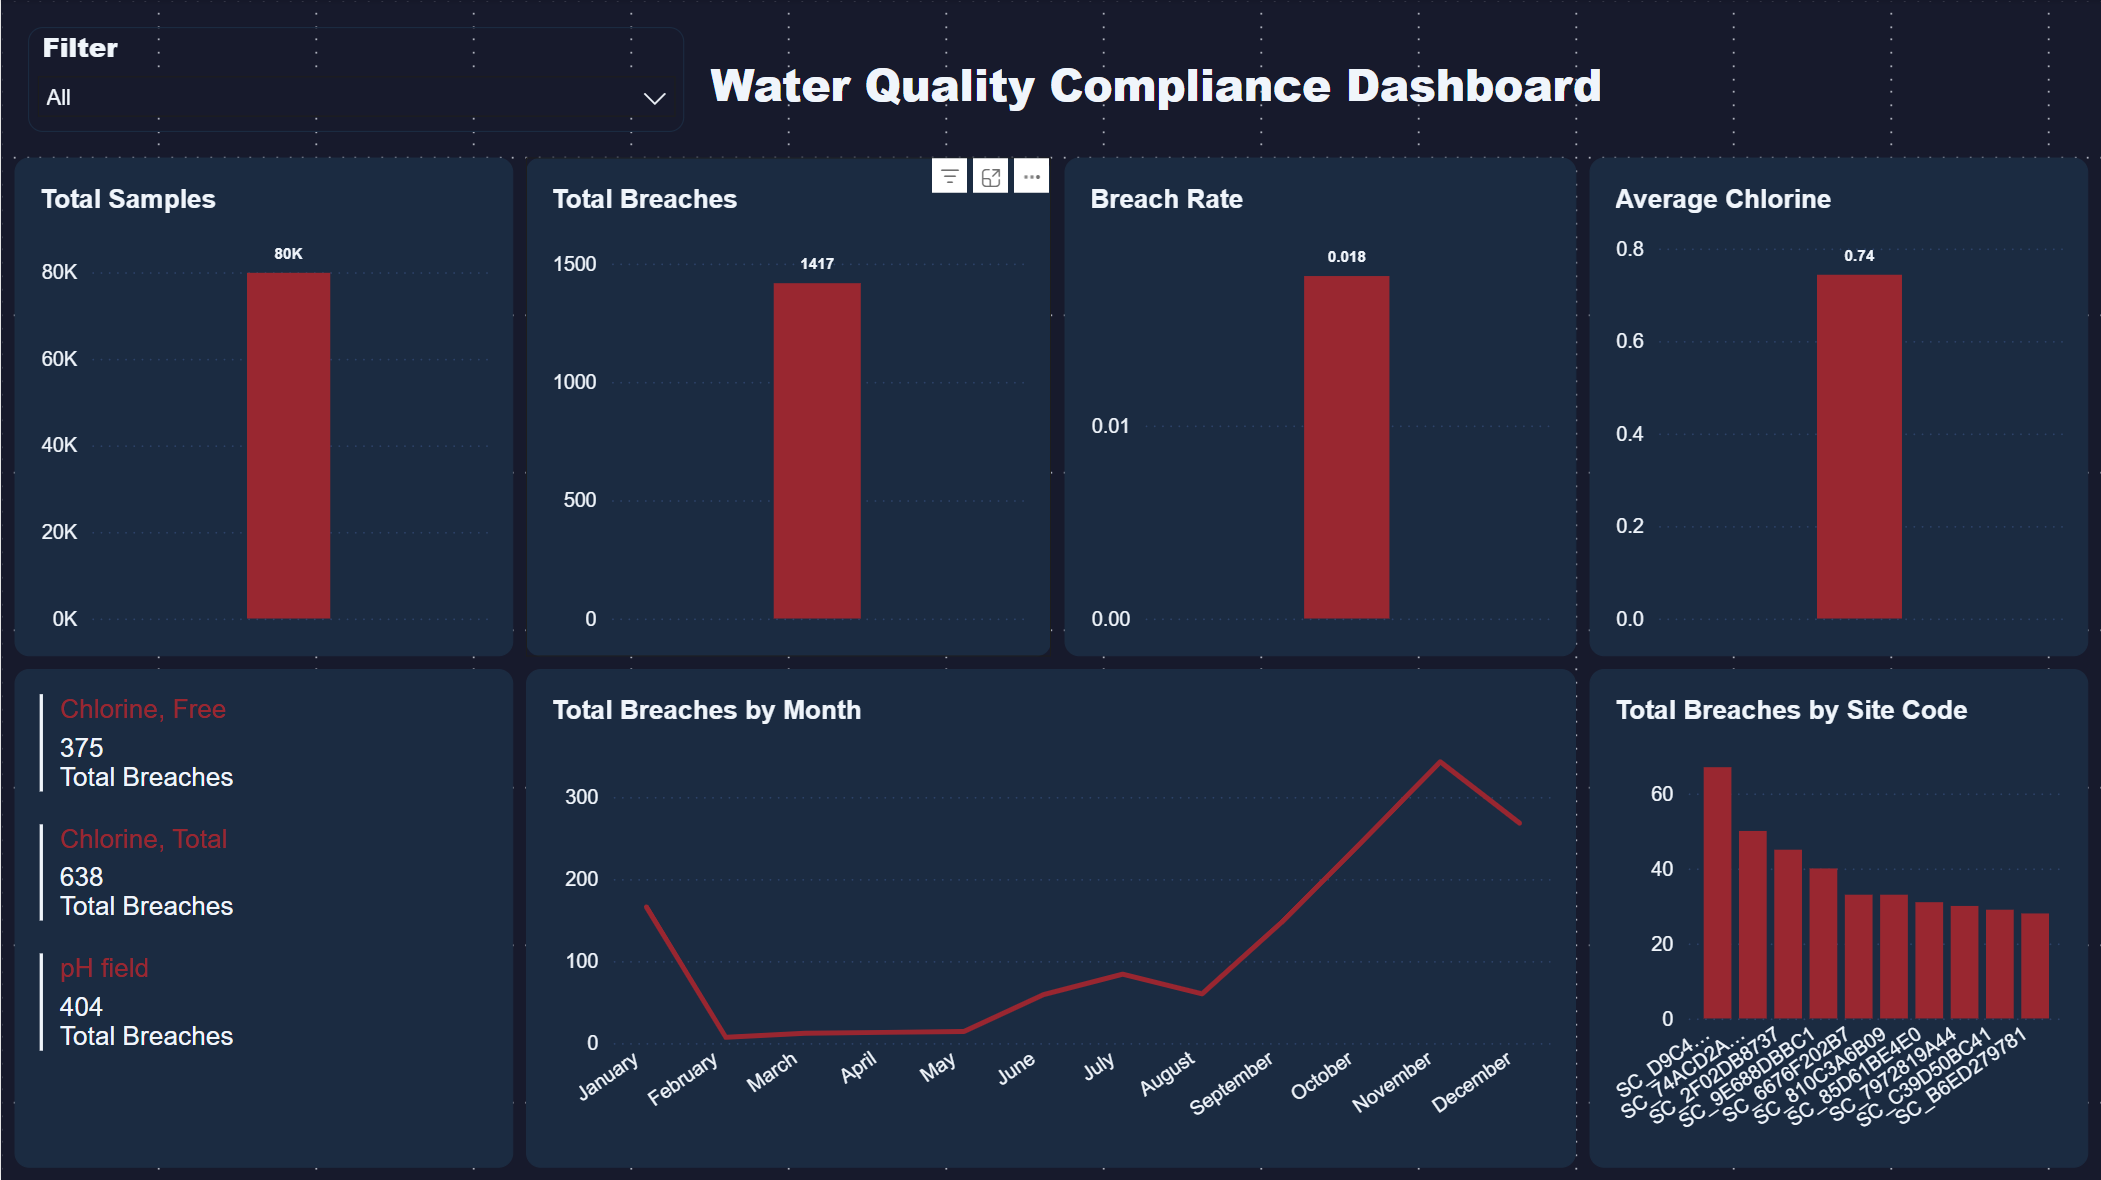

This screenshot's page, from the dashboard's own definition file:
{"tool":"powerbi","page":{"name":"Page 1","canvas":[1280,720],"ordinal":0},"visuals":[{"type":"clusteredColumnChart","fields":{"Y":["WaterQuality.Total Samples"]},"box":[8,96,304,304],"z":0},{"type":"clusteredColumnChart","fields":{"Y":["WaterQuality.Total Breaches"]},"box":[320,96,320,304],"z":1000},{"type":"clusteredColumnChart","fields":{"Y":["WaterQuality.Breach Rate"]},"box":[648,96,312,304],"z":2000},{"type":"multiRowCard","fields":{"Values":["WaterQuality.Parameter","WaterQuality.Total Breaches"]},"box":[8,408,304,304],"z":3000},{"type":"lineChart","fields":{"Category":["WaterQuality.Date.Variation.Date Hierarchy.Month"],"Y":["WaterQuality.Total Breaches"]},"box":[320,408,640,304],"z":4000},{"type":"columnChart","fields":{"Category":["WaterQuality.Site Code"],"Y":["WaterQuality.Total Breaches"]},"box":[968,408,304,304],"z":5000},{"type":"slicer","fields":{"Values":["WaterQuality.Zone","WaterQuality.Parameter","WaterQuality.Site Code"]},"box":[16,16,400,64],"z":6000},{"type":"textbox","box":[432,32,752,48],"z":7000},{"type":"clusteredColumnChart","fields":{"Y":["WaterQuality.Average Chlorine"]},"box":[968,96,304,304],"z":8000}]}

Visuals, with their boxes in screenshot pixels (x1, y1, x2, y2), scaled from the page's 1280x720 canvas onto the 2101x1180 screenshot:
clusteredColumnChart - WaterQuality.Total Samples: crop(13, 157, 512, 656)
clusteredColumnChart - WaterQuality.Total Breaches: crop(525, 157, 1050, 656)
clusteredColumnChart - WaterQuality.Breach Rate: crop(1064, 157, 1576, 656)
multiRowCard - WaterQuality.Parameter x WaterQuality.Total Breaches: crop(13, 669, 512, 1167)
lineChart - WaterQuality.Date.Variation.Date Hierarchy.Month x WaterQuality.Total Breaches: crop(525, 669, 1576, 1167)
columnChart - WaterQuality.Site Code x WaterQuality.Total Breaches: crop(1589, 669, 2088, 1167)
slicer - WaterQuality.Zone x WaterQuality.Parameter: crop(26, 26, 683, 131)
textbox: crop(709, 52, 1943, 131)
clusteredColumnChart - WaterQuality.Average Chlorine: crop(1589, 157, 2088, 656)
